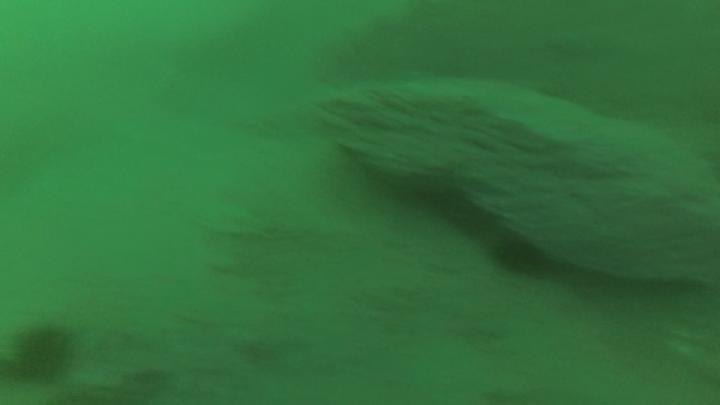echinus: (15, 322, 69, 381), (497, 227, 547, 281)
